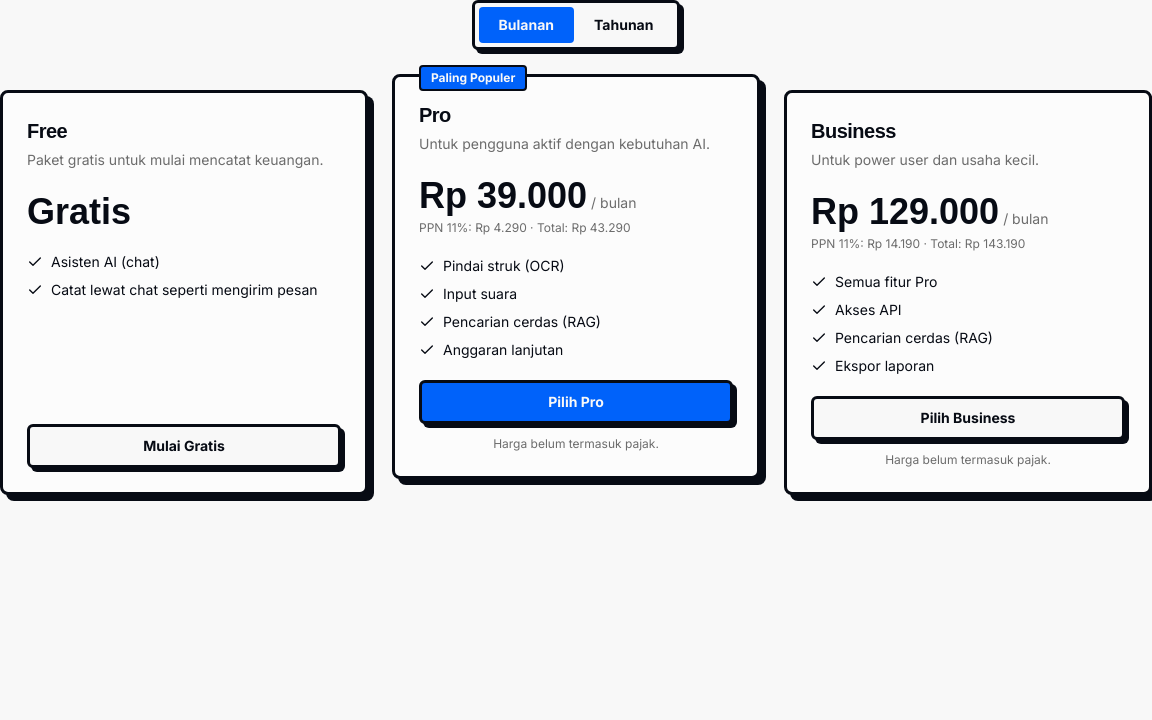
Scenario: PricingCards › switches to yearly prices with an honest effective monthly figure
This screenshot has width=1152, height=720.
Click the button "Tahunan". click: coordinates (624, 25)
box: [574,7,674,43]
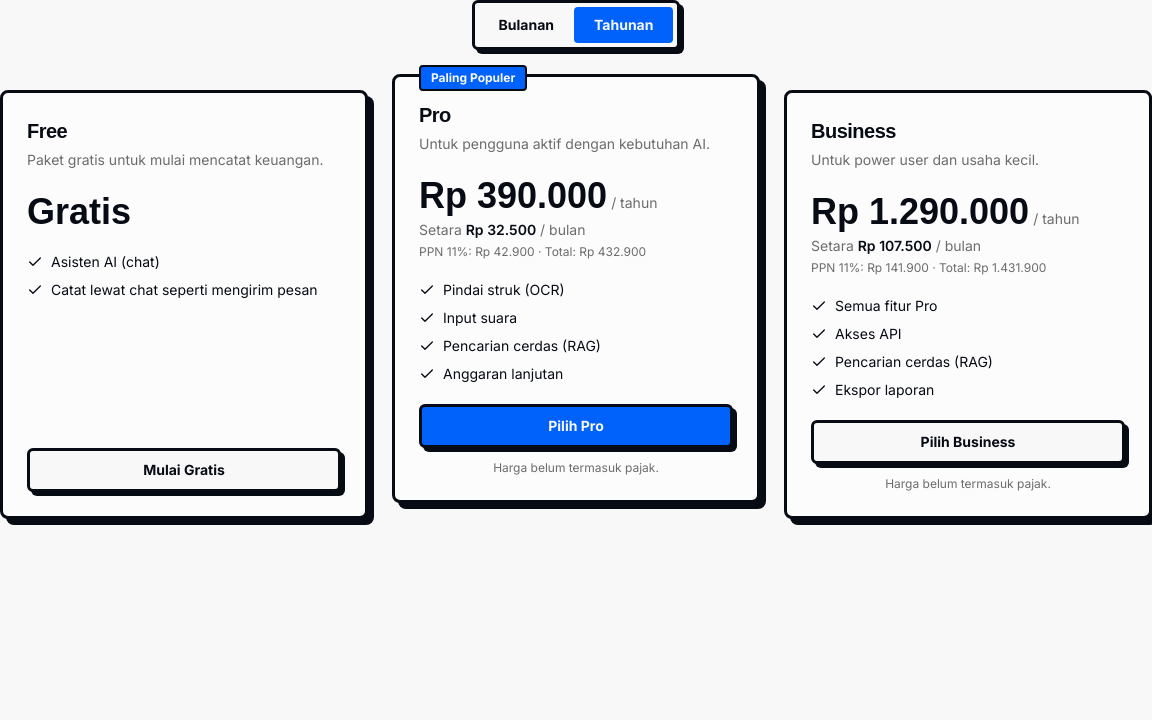
Expected: the text "Rp 390.000" is shown, [419,176,607,216]
Expected: the text "Rp 32.500" is shown, [466,221,536,238]
Expected: the text "Setara Rp 32.500 / bulan" is shown, [419,221,586,238]
